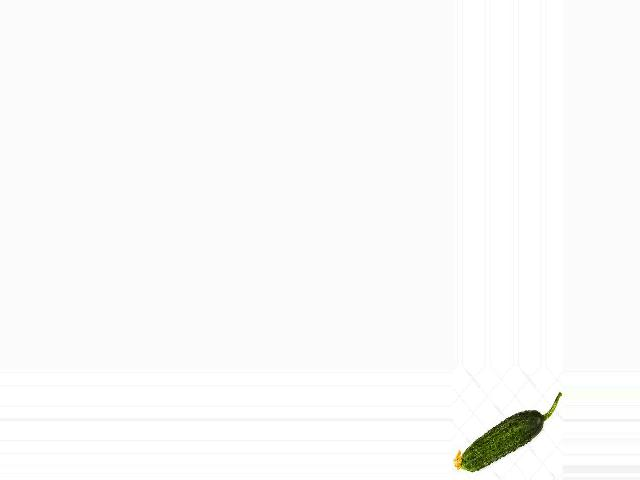cucumber: (452, 392, 561, 472)
